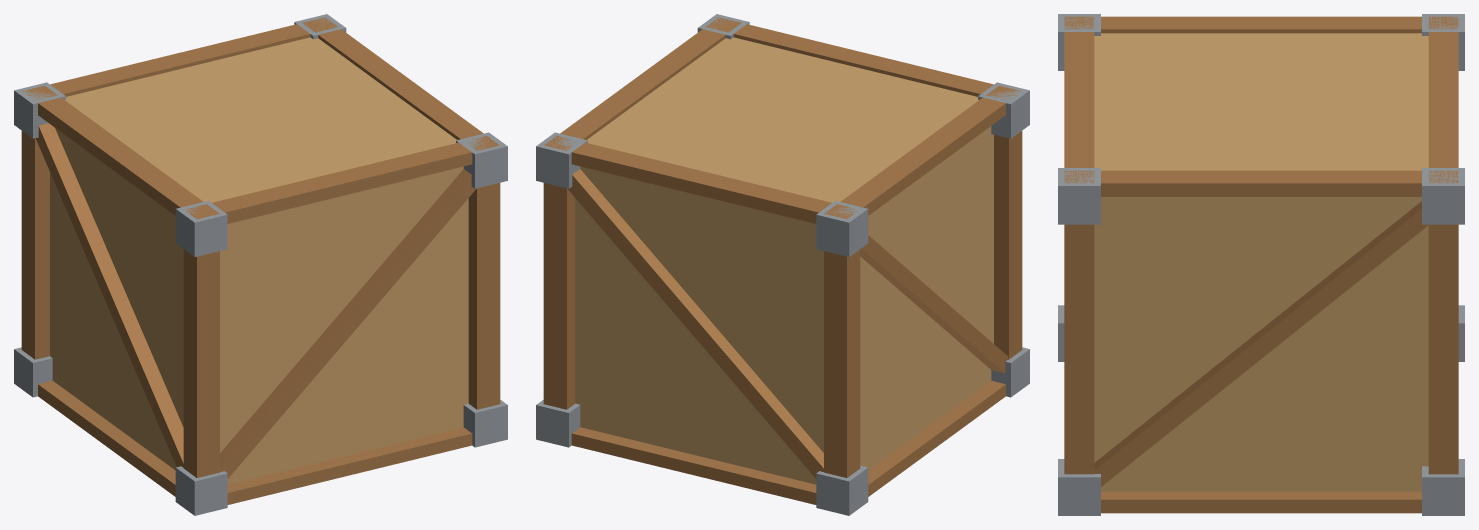
File: crate.glb
3 renders of one model, left to right at view 1: azimuth 30°, elevation 25°; view 2: azimuth 150°, elevation 25°; view 3: azimuth 270°, elevation 25°, orthographic. The views are drawn at different scales.
Visible parts, largest first — view 1: crate; view 2: crate; view 3: crate.
Boxes of the visible parts, x1,y1,x2,y2 form: crate: (14,14,507,515); crate: (536,14,1029,515); crate: (1058,14,1464,515).
Size of the model in its own units: 0.95 by 0.85 by 0.95.
1 material, 1 textured.
